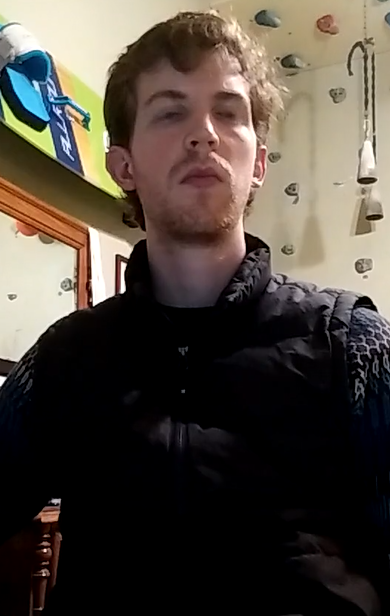Half Asleep: (140, 87, 251, 136)
